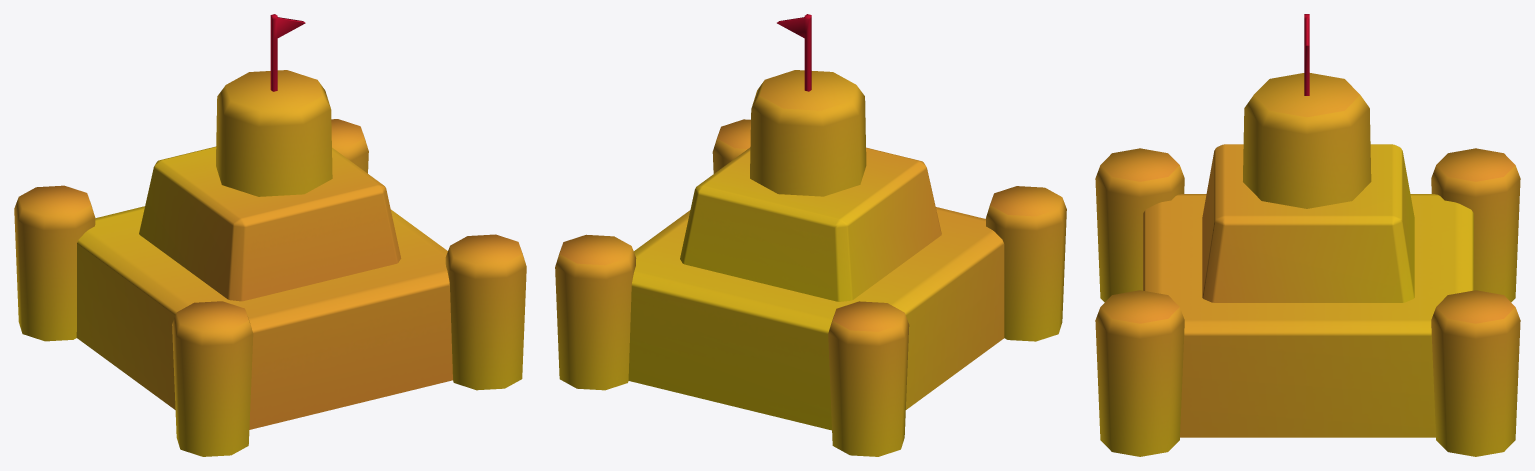
Rendered from ENV_Sand_Castle.fbx.
The picture shows the model from 3 angles, left to right: view 1: azimuth 30°, elevation 25°; view 2: azimuth 150°, elevation 25°; view 3: azimuth 270°, elevation 25°; orthographic projection. The views are drawn at different scales.
Visible parts, largest first — view 1: ENV_Sand_Castle; view 2: ENV_Sand_Castle; view 3: ENV_Sand_Castle.
Boxes of the visible parts, bbox=[...] form: ENV_Sand_Castle: bbox=[14, 14, 526, 456]; ENV_Sand_Castle: bbox=[555, 14, 1066, 456]; ENV_Sand_Castle: bbox=[1095, 14, 1520, 456].
Size of the model in its own units: 0.6332 by 0.5847 by 0.6332.
